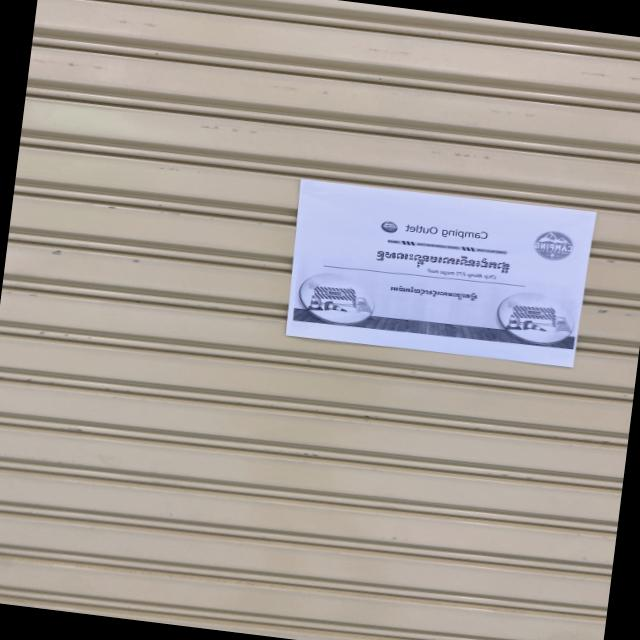688: (455, 270, 466, 277)
Yolov11kh: (370, 247, 513, 278), (386, 283, 480, 302)
